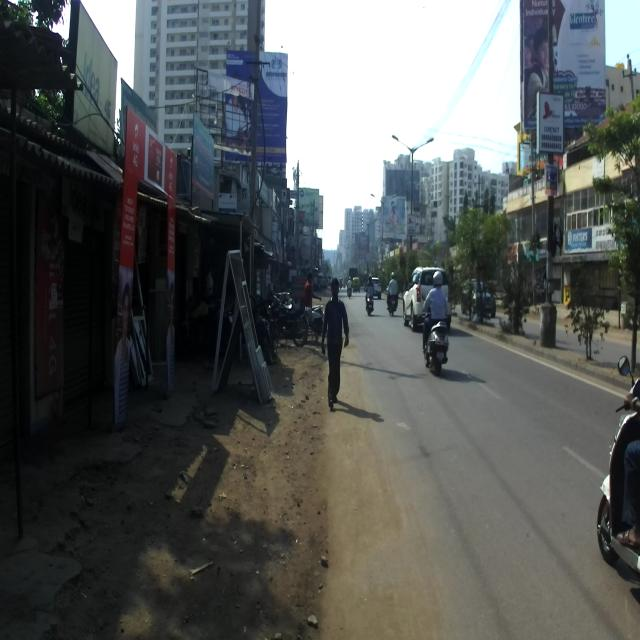barrier ahead at: (212, 242, 282, 418)
motorcycle ahead at: (417, 317, 453, 373)
person ahead at: (319, 269, 358, 419)
